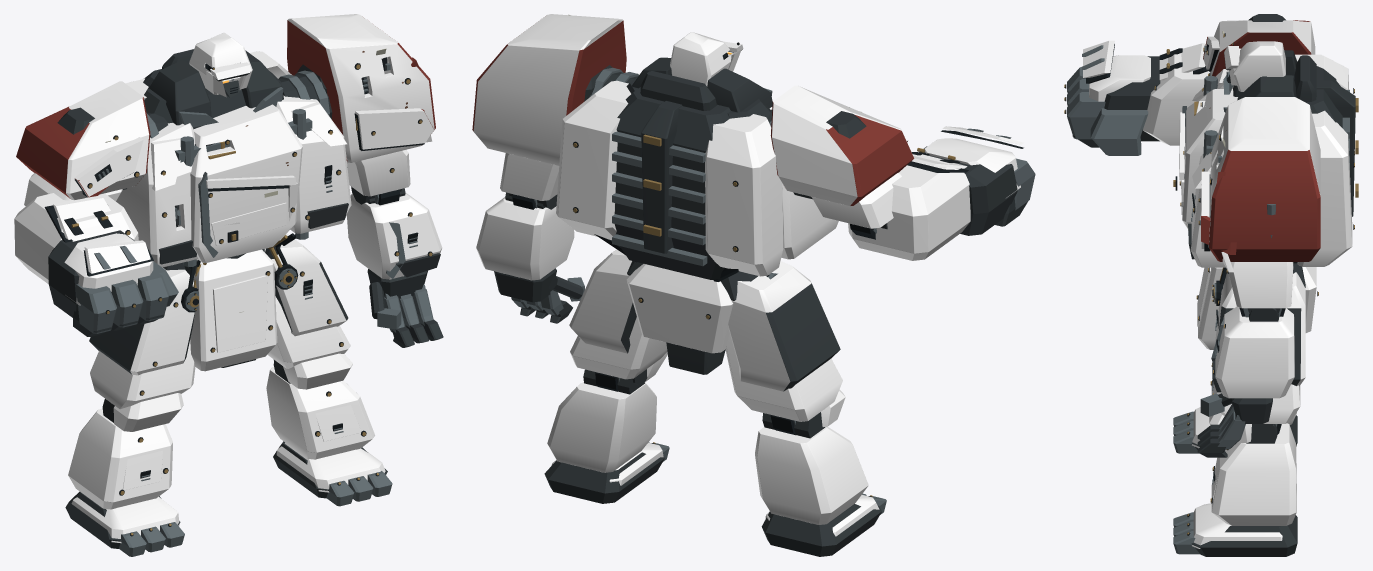
File: mechanical-citizens-red-shoulder-juggernaut-v2.glb
The picture shows the model from 3 angles, left to right: view 1: azimuth 30°, elevation 25°; view 2: azimuth 150°, elevation 25°; view 3: azimuth 270°, elevation 25°; orthographic projection. The views are drawn at different scales.
Visible parts, largest first — view 1: PLATE_chest_center_slab, PLATE_pauldron_large.L, PLATE_pauldron_raked.R, PLATE_chest_flank.R, PLATE_waist_center_apron, PLATE_shin_main_guard.R, PLATE_chest_flank.L, PLATE_shin_main_guard.L, CORE_hand.R, PLATE_forearm_slab.L, PLATE_forearm_impact_cuff.R, PLATE_hip_skirt.R (+17 smaller); view 2: PLATE_pauldron_large.L, CORE_chest, PLATE_pauldron_raked.R, PLATE_rear_cassette.R, PLATE_hip_skirt.R, PLATE_shin_main_guard.R, PLATE_rear_cassette.L, PLATE_forearm_impact_cuff.R, PLATE_shin_main_guard.L, PLATE_pelvis_rear_guard, PLATE_back_spine_cover, PLATE_forearm_slab.L (+17 smaller); view 3: PLATE_pauldron_large.L, PLATE_shin_main_guard.L, PLATE_forearm_slab.L, CORE_hand.R, PLATE_rear_cassette.L, PLATE_forearm_impact_cuff.R, PLATE_chest_center_slab, PLATE_pauldron_raked.R, CORE_foot.L, CORE_hand.L, PLATE_upper_arm_guard.L, PLATE_fist_dorsal_plate.R (+16 smaller).
Part boxes in pixels (x1,y1,x2,y2): PLATE_chest_center_slab: [178, 104, 302, 262]; PLATE_pauldron_large.L: [287, 14, 435, 162]; PLATE_pauldron_raked.R: [16, 81, 150, 200]; PLATE_chest_flank.R: [116, 60, 218, 267]; PLATE_waist_center_apron: [190, 249, 277, 371]; PLATE_shin_main_guard.R: [68, 408, 172, 509]; PLATE_chest_flank.L: [241, 50, 351, 233]; PLATE_shin_main_guard.L: [266, 366, 374, 459]; CORE_hand.R: [48, 230, 178, 336]; PLATE_forearm_slab.L: [347, 192, 442, 279]; PLATE_forearm_impact_cuff.R: [14, 193, 138, 283]; PLATE_hip_skirt.R: [89, 268, 194, 375]; PLATE_pauldron_large.L: [472, 14, 626, 165]; CORE_chest: [589, 67, 772, 281]; PLATE_pauldron_raked.R: [770, 85, 914, 206]; PLATE_rear_cassette.R: [705, 114, 783, 276]; PLATE_hip_skirt.R: [728, 261, 840, 391]; PLATE_shin_main_guard.R: [755, 426, 868, 524]; PLATE_rear_cassette.L: [556, 80, 630, 240]; PLATE_forearm_impact_cuff.R: [848, 148, 970, 260]; PLATE_shin_main_guard.L: [547, 382, 656, 472]; PLATE_pelvis_rear_guard: [626, 264, 733, 353]; PLATE_back_spine_cover: [640, 71, 716, 253]; PLATE_forearm_slab.L: [476, 197, 574, 280]; PLATE_pauldron_large.L: [1198, 97, 1320, 272]; PLATE_shin_main_guard.L: [1210, 423, 1296, 525]; PLATE_forearm_slab.L: [1211, 306, 1294, 398]; CORE_hand.R: [1064, 56, 1160, 155]; PLATE_rear_cassette.L: [1297, 110, 1354, 266]; PLATE_forearm_impact_cuff.R: [1143, 43, 1209, 145]; PLATE_chest_center_slab: [1173, 89, 1237, 228]; PLATE_pauldron_raked.R: [1203, 20, 1315, 76]; CORE_foot.L: [1173, 512, 1297, 556]; CORE_hand.L: [1197, 393, 1272, 457]; PLATE_upper_arm_guard.L: [1226, 262, 1293, 308]; PLATE_fist_dorsal_plate.R: [1082, 40, 1150, 101].
Size of the model in its own units: 3.56 by 3.64 by 2.15.
